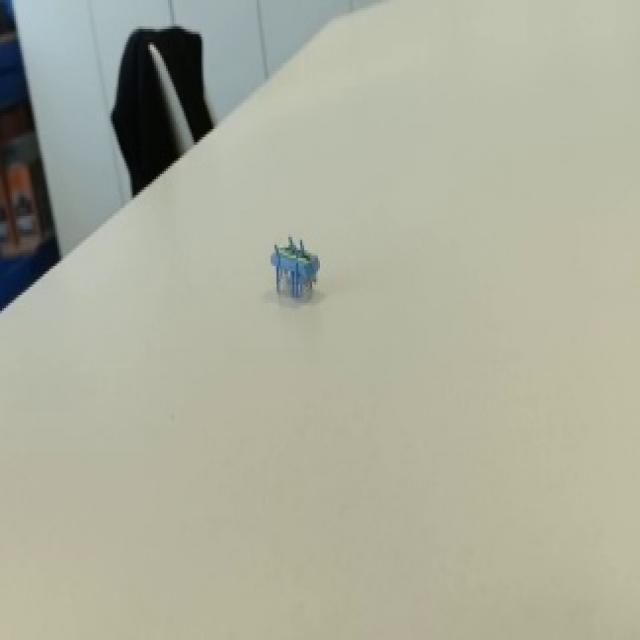3_NanoBug_Celeste: (247, 212, 349, 322)
